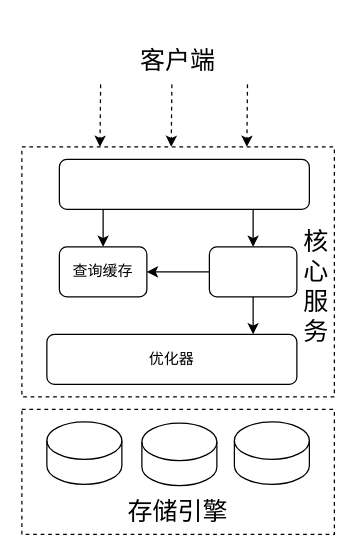
This 364x556 diagram has some shape labels left out. Here are the shapes that lost their labels. From the top down, the centre of each, then its label:
the point at 183,183: 连接/线程处理
the point at 252,271: 解析器
